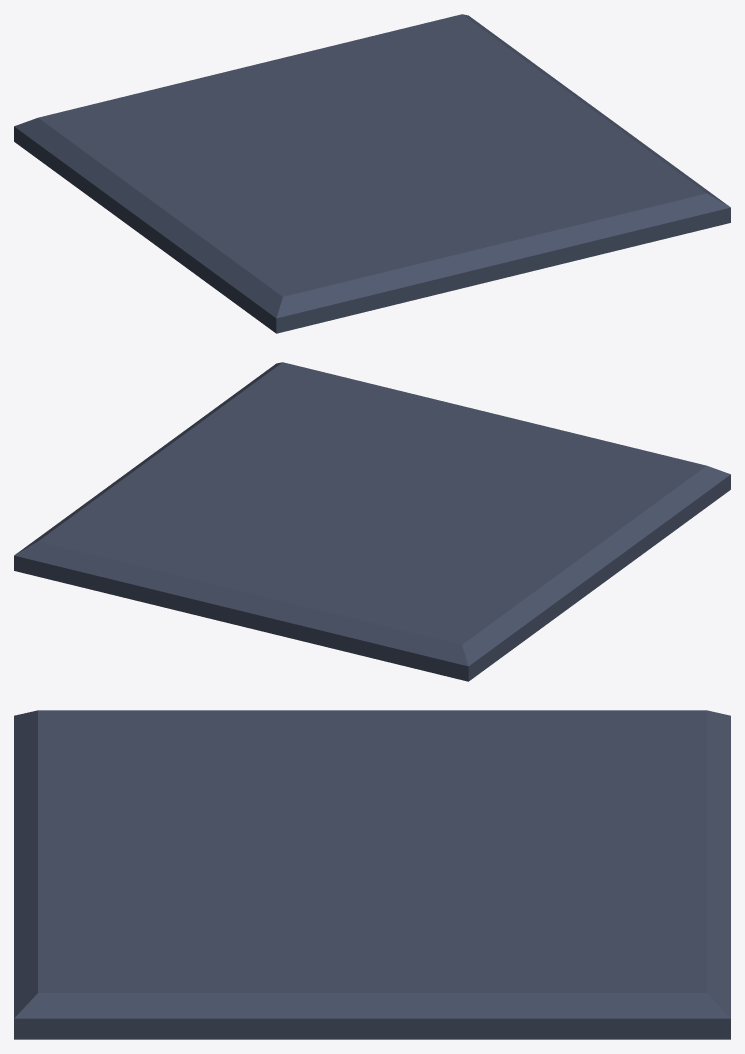
File: floor-tile.fbx
3 views of the same model, one above another, from view 1: azimuth 30°, elevation 25°; view 2: azimuth 150°, elevation 25°; view 3: azimuth 270°, elevation 25° (orthographic). The views are drawn at different scales.
Parts seen in each view (by area): view 1: Cube; view 2: Cube; view 3: Cube.
Part boxes in pixels (x1,y1,x2,y2): Cube: [14, 14, 730, 333]; Cube: [14, 362, 730, 681]; Cube: [14, 710, 730, 1039].
Size of the model in its own units: 200 by 11.24 by 200.
